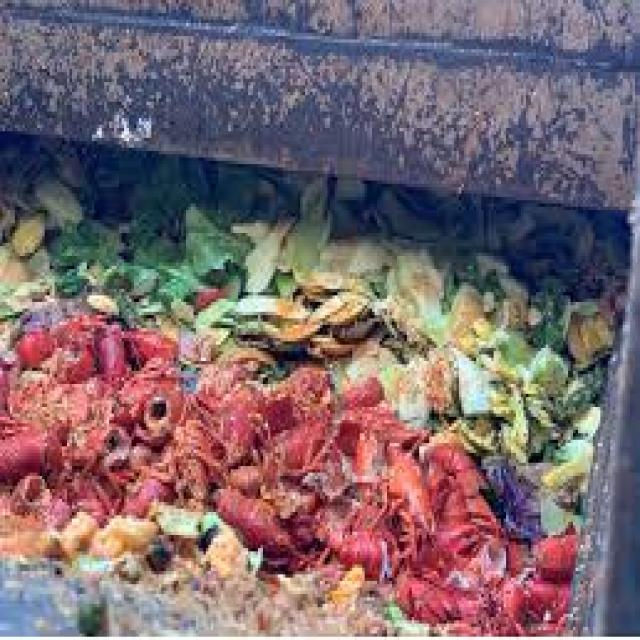food_waste: (11, 182, 571, 602)
